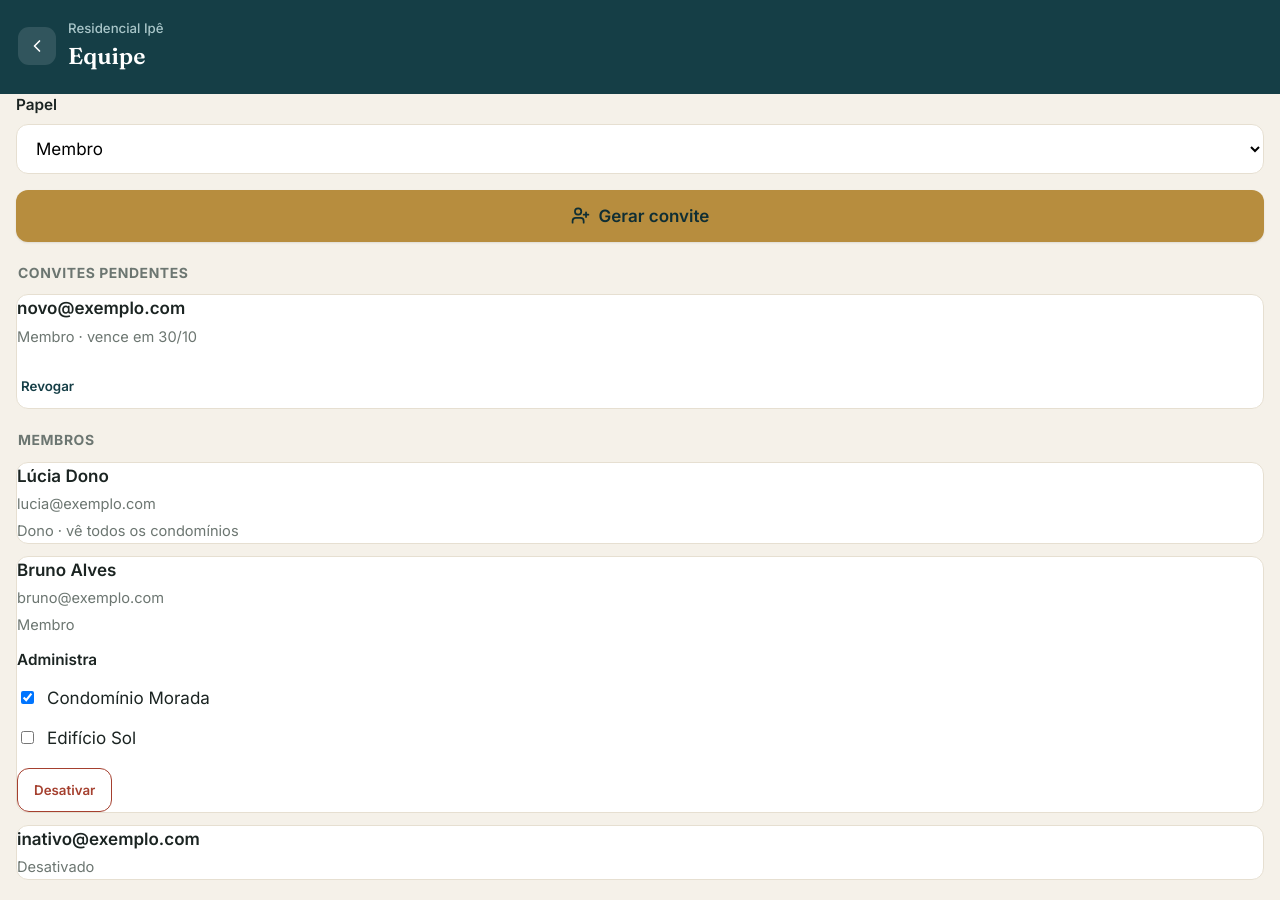
Test: TeamScreen › shows the server message when deactivating fails
This screenshot has width=1280, height=900.
(page scrolled)
Expected: the text "Bruno Alves" is shown, [17, 560, 116, 580]
Click the button "Desativar": (65, 790) [17, 768, 112, 812]
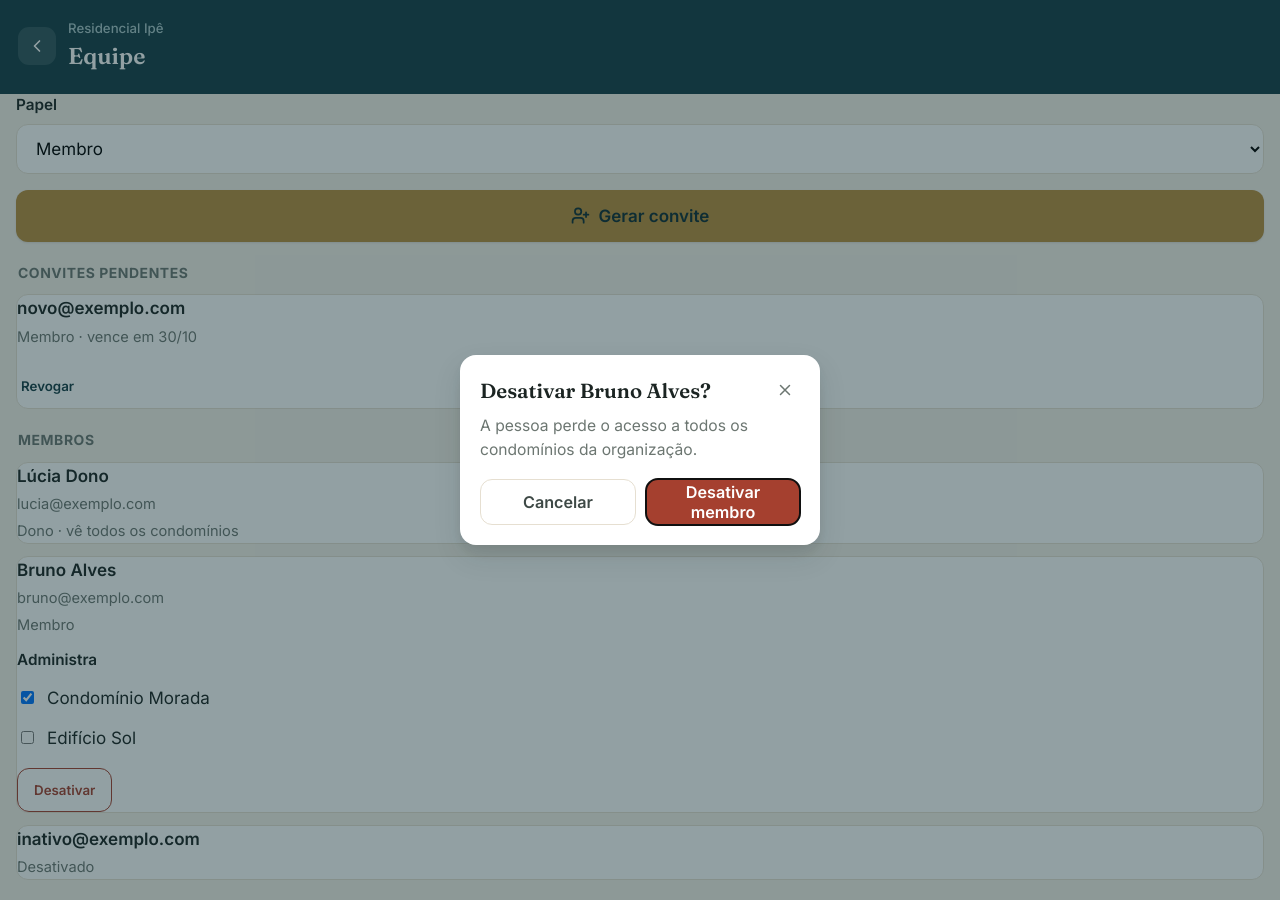
Click the button "Desativar membro": (723, 502) [646, 479, 800, 525]
(page scrolled)
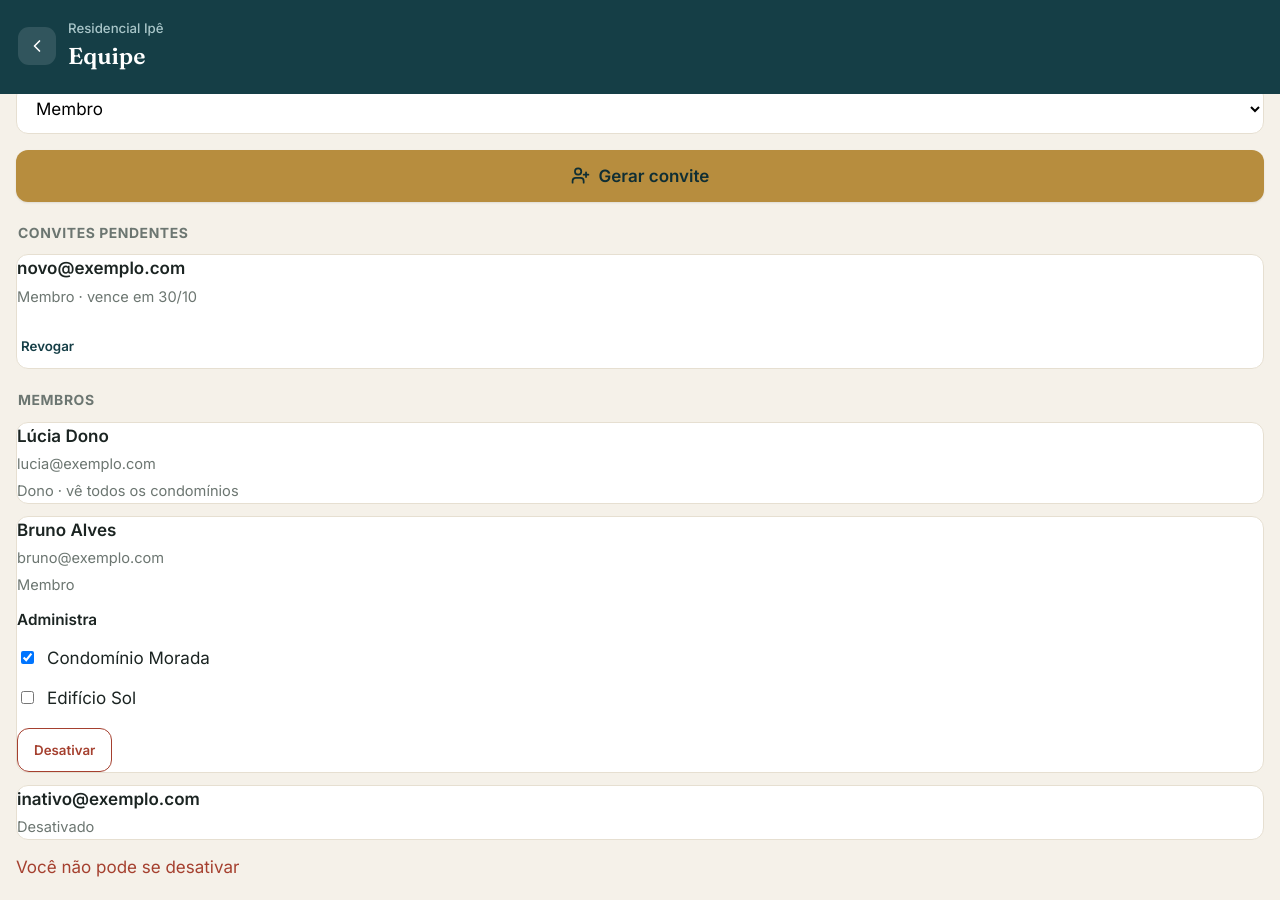
Now the message reads "Você não pode se desativar", box [16, 857, 239, 877]
